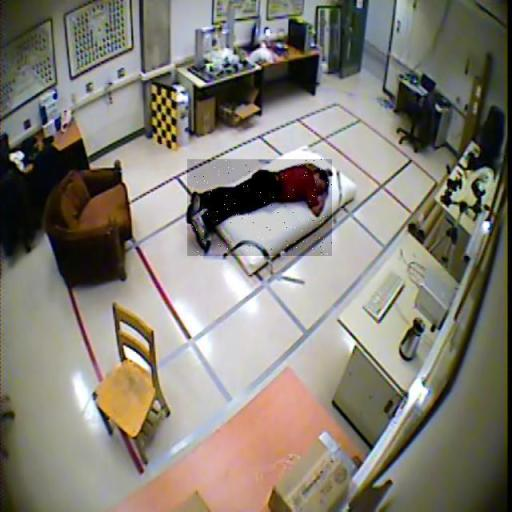Fall: (187, 159, 332, 256)
